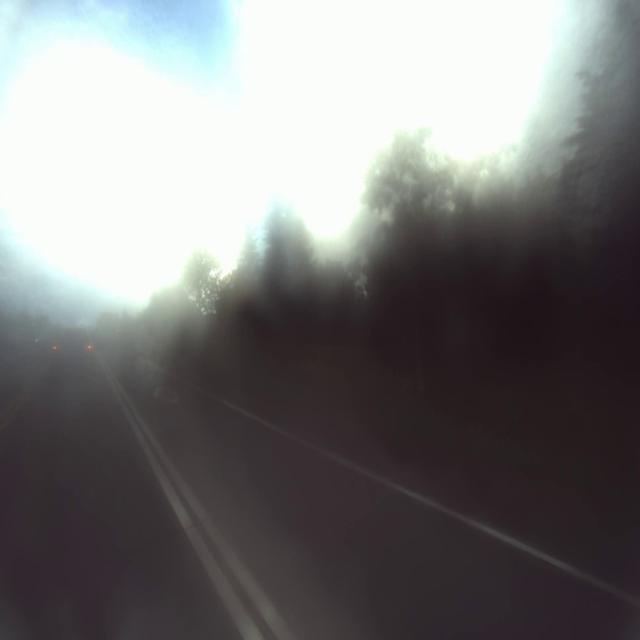car: (44, 310, 96, 390)
